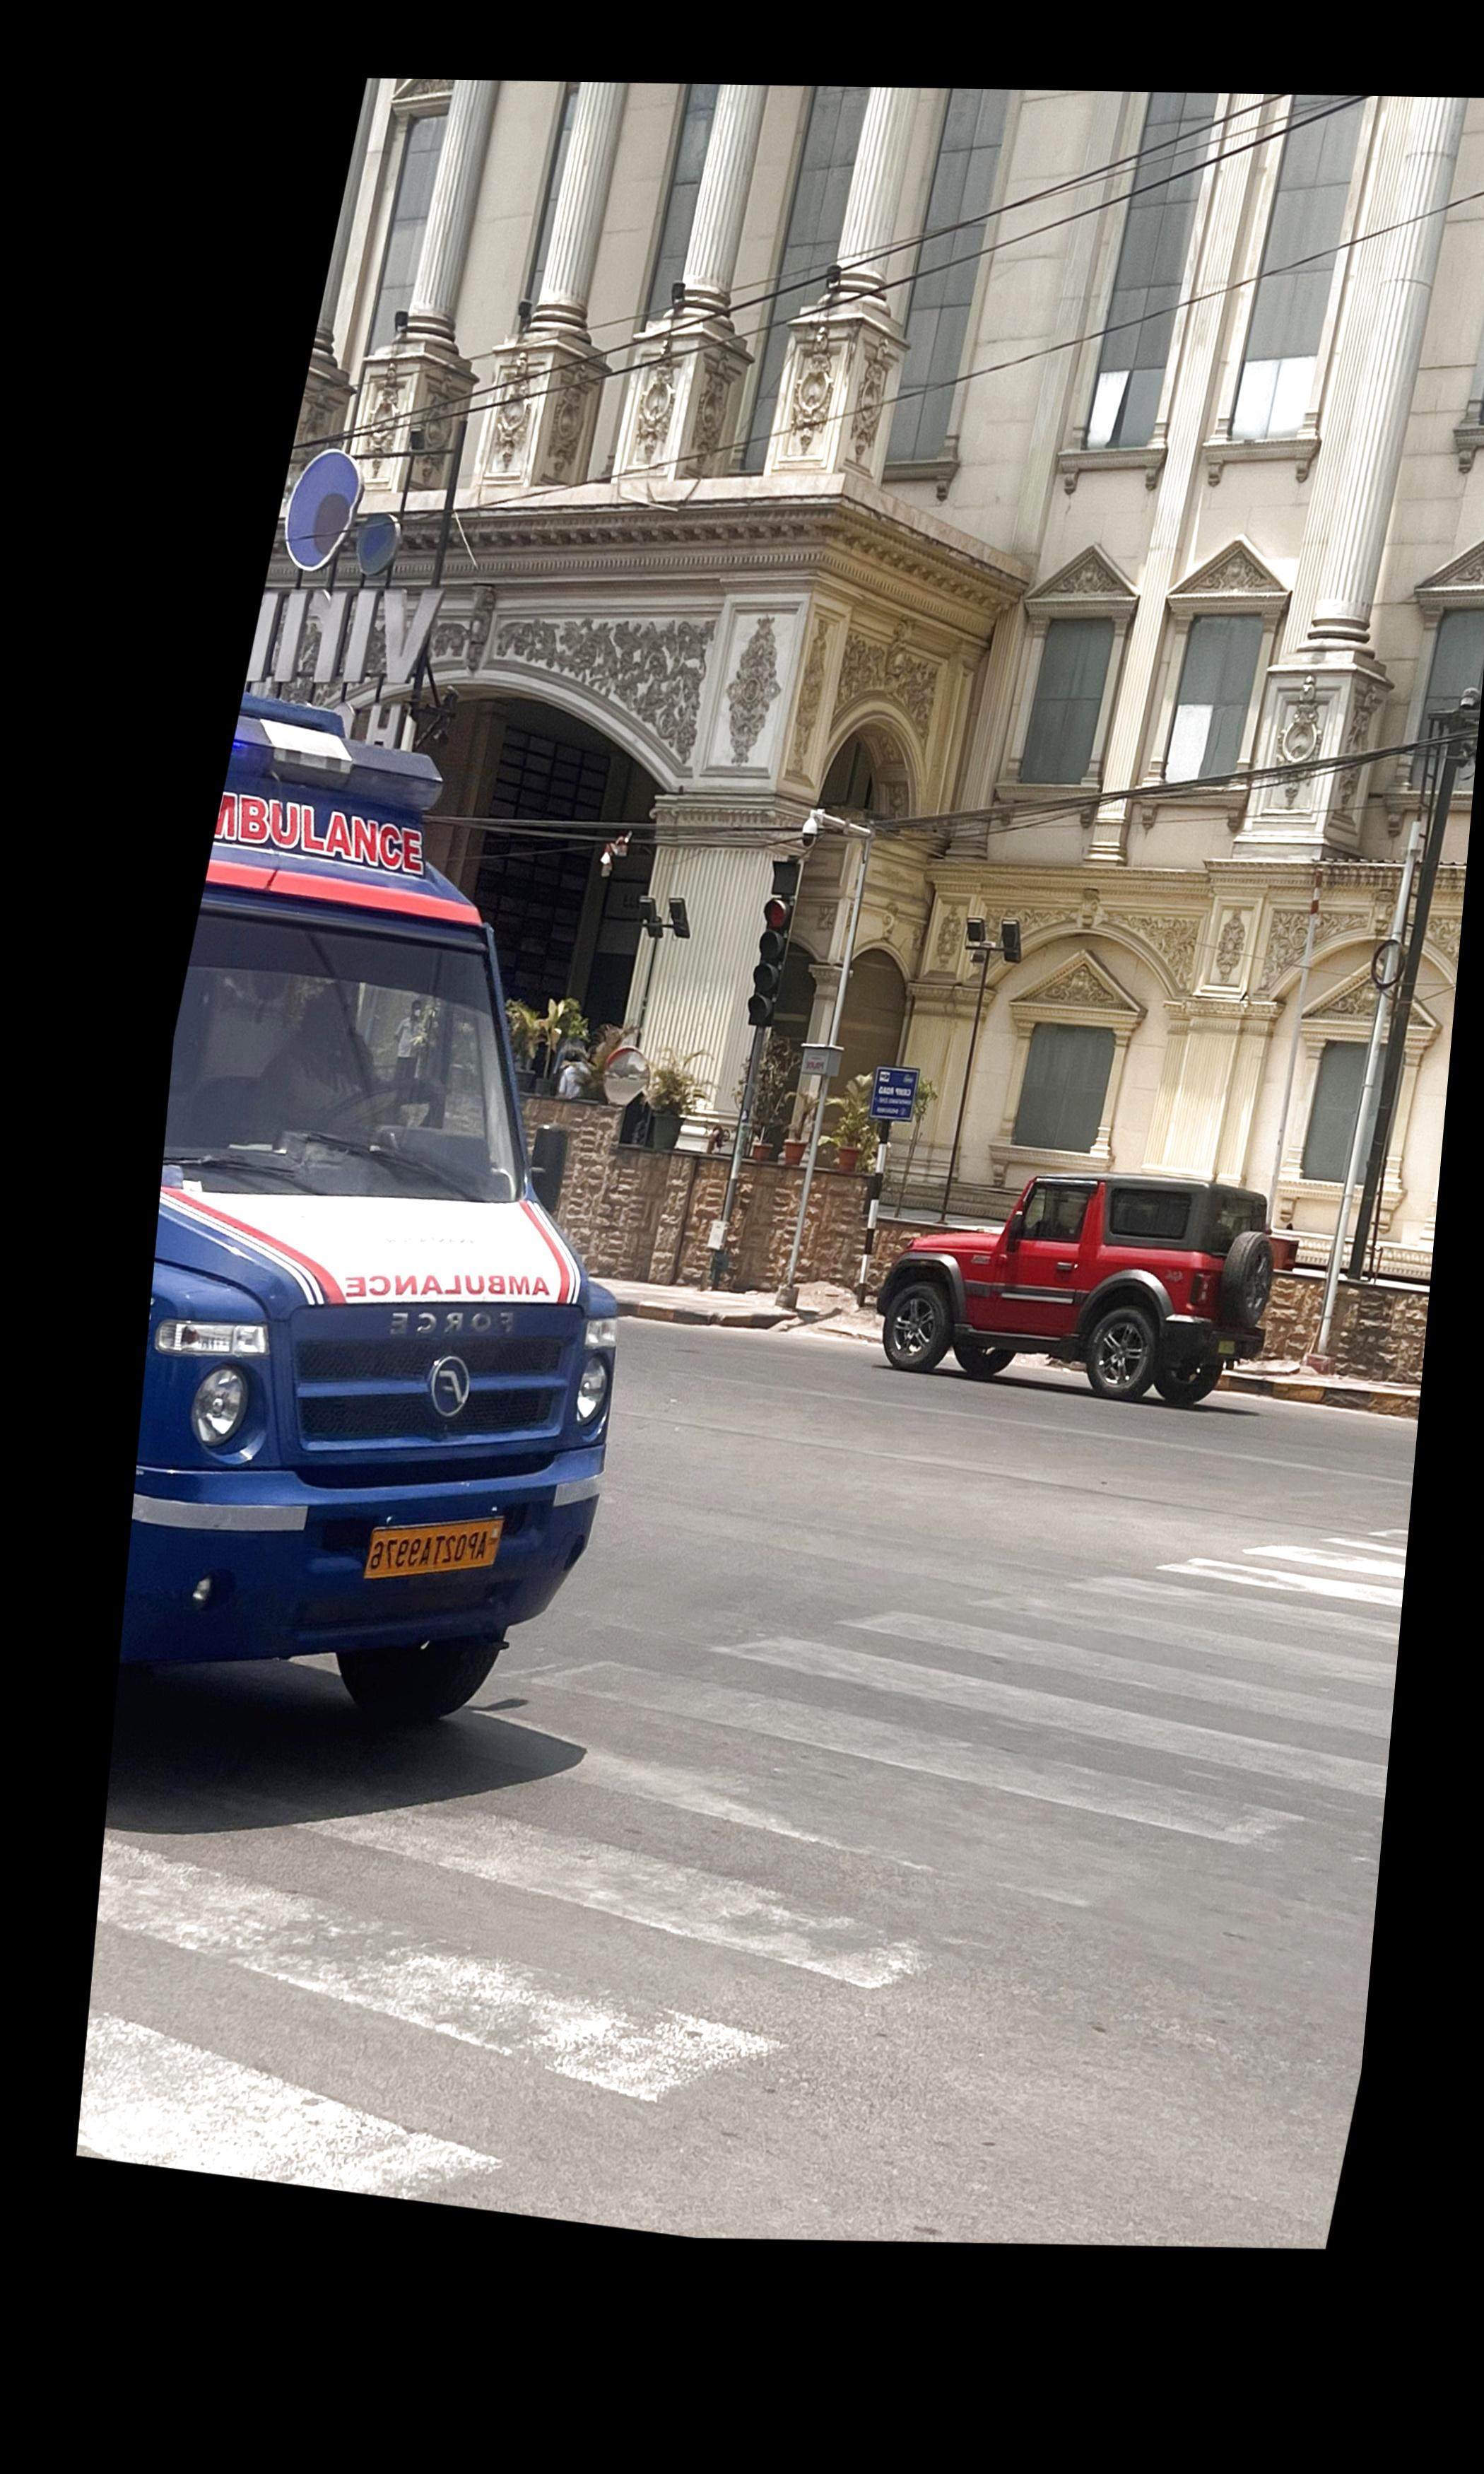ambulance: (127, 672, 618, 1735)
